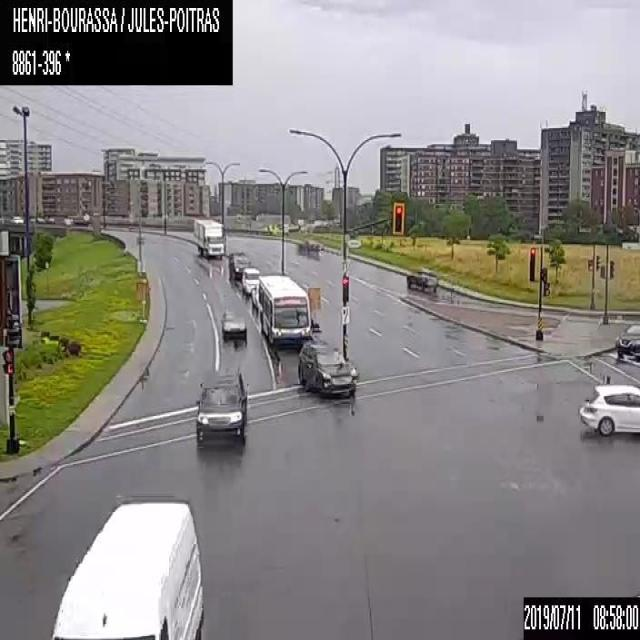bus: (257, 274, 312, 348)
vehicle: (51, 500, 203, 639), (194, 371, 246, 441), (299, 340, 356, 399), (578, 383, 639, 436), (194, 218, 224, 258), (616, 321, 639, 360), (221, 309, 246, 340), (406, 266, 436, 290), (228, 252, 250, 281), (241, 266, 259, 294), (297, 238, 318, 254), (251, 280, 257, 306)
